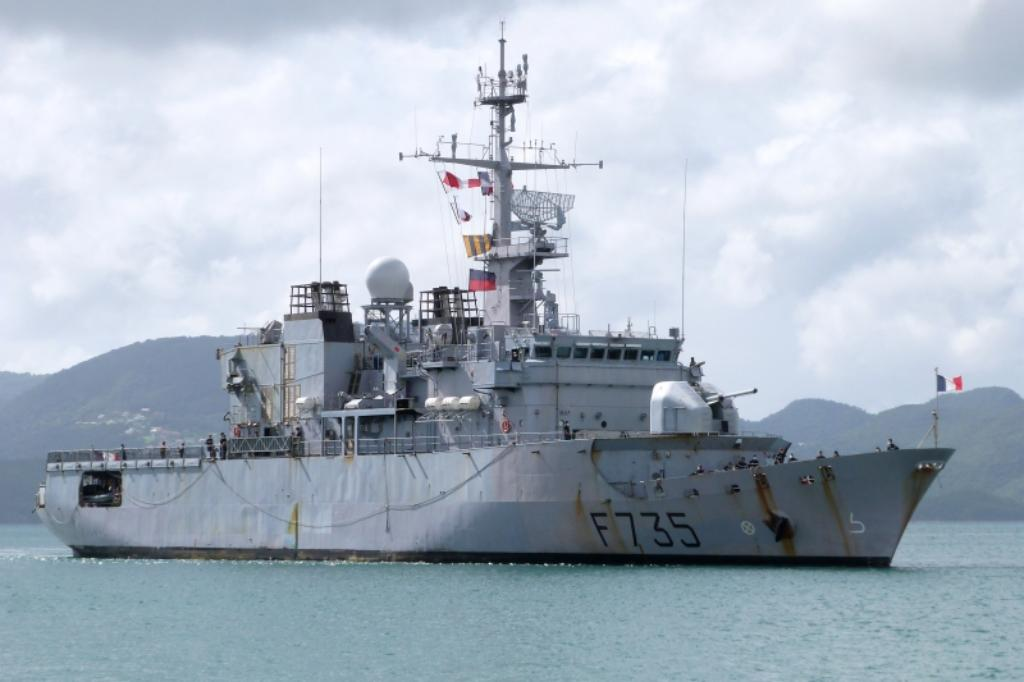Warship: (34, 22, 956, 570)
